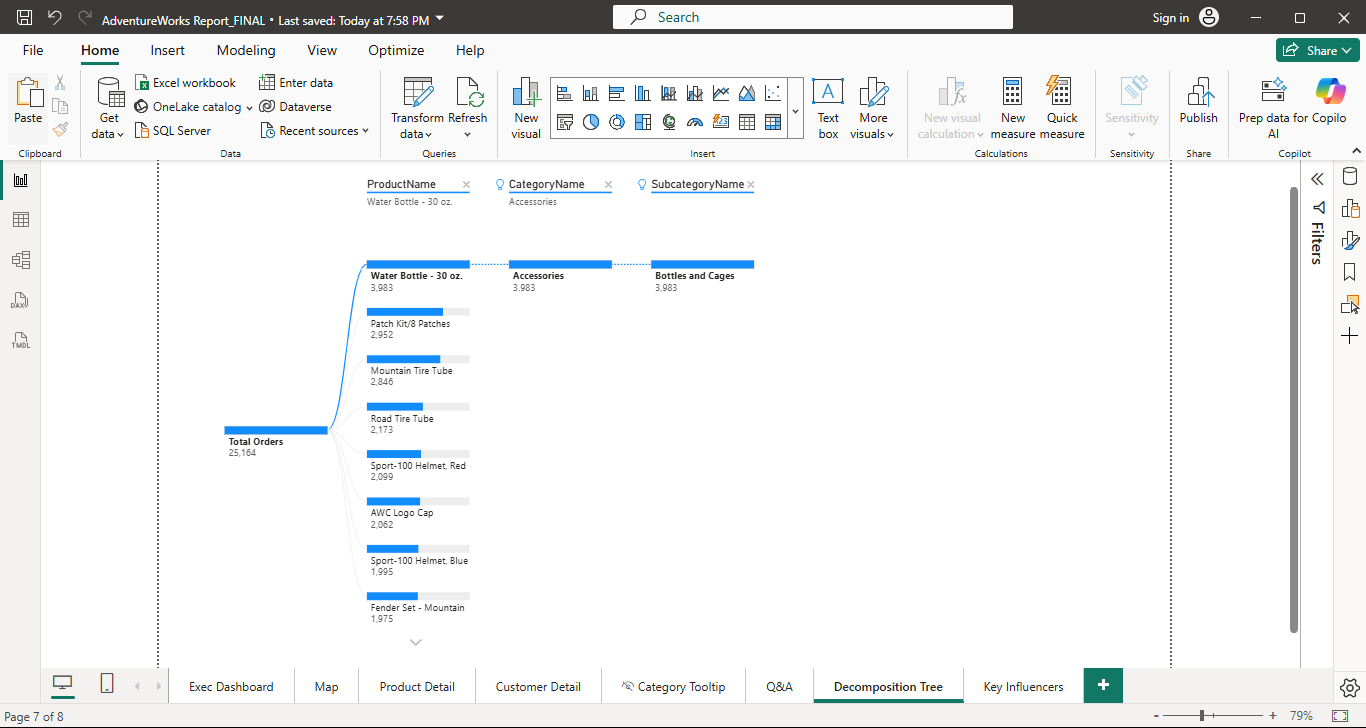

Layout of this report page (visuals, bound fields, positions):
{"tool":"powerbi","page":{"name":"Decomposition Tree","canvas":[1280,720],"ordinal":6},"visuals":[{"type":"decompositionTreeVisual","fields":{"Analyze":["Measure Table.Total Orders"],"ExplainBy":["Product Categories Lookup.CategoryName","Product Subcategories Lookup.SubcategoryName","Product Lookup.ProductName"]},"box":[64.4,55.4,773.1,597.9],"z":0},{"type":"card","fields":{"Values":["Measure Table.Total Orders"]},"box":[894.1,204.6,280.3,243],"z":1000}]}

Visuals, with their boxes on the page's 1280x720 design canvas (x1, y1, x2, y2). These are canvas units, not pixel positions in the 1366x728 screenshot, which may show the page scaled, cropped or inside an application window:
decompositionTreeVisual - Measure Table.Total Orders x Product Categories Lookup.CategoryName: 64:55:838:653
card - Measure Table.Total Orders: 894:205:1174:448
